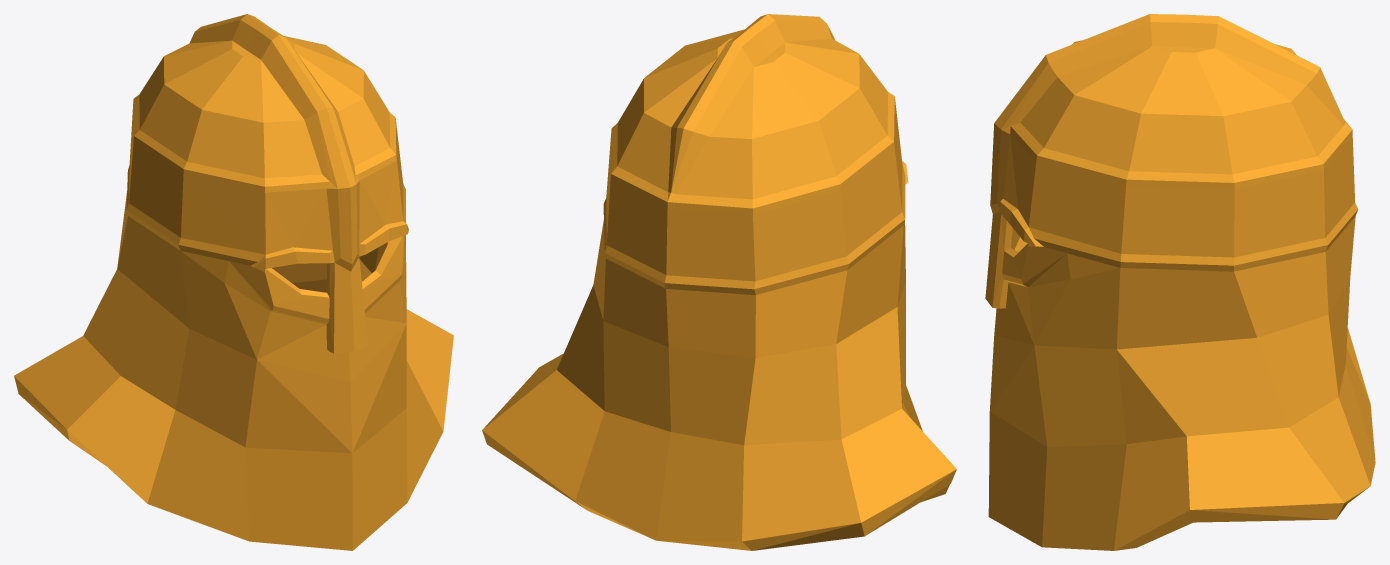
The model's file is SM_Helmet_Viking_Aventail.fbx.
3 views of the same model, side by side, from view 1: azimuth 30°, elevation 25°; view 2: azimuth 150°, elevation 25°; view 3: azimuth 270°, elevation 25° (orthographic). The views are drawn at different scales.
Visible parts, largest first — view 1: helmet-viking-aventail; view 2: helmet-viking-aventail; view 3: helmet-viking-aventail.
Part boxes in pixels (x1,y1,x2,y2): helmet-viking-aventail: [14, 14, 453, 550]; helmet-viking-aventail: [482, 14, 956, 550]; helmet-viking-aventail: [985, 14, 1375, 550].
Bounding box in the file's own units: 0.3432 × 0.3919 × 0.2752.
